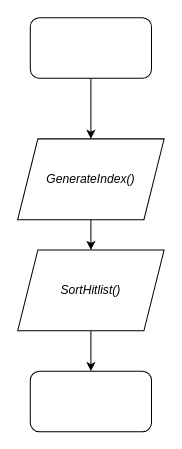
This 182x449 diagram has some shape labels left out. Here are the shapes that lost their labels. From the top down, the centre of each, then its label:
At point 90,47: "Mulai".
At point 90,401: "Selesai".
